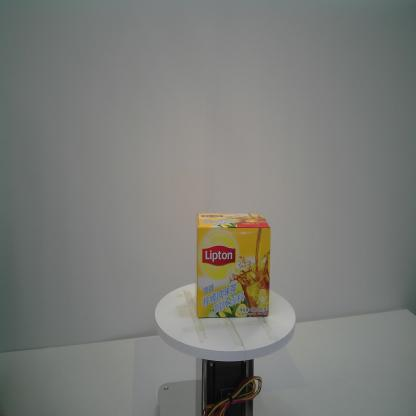Instant Drink: (195, 213, 271, 318)
